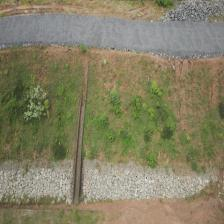rock_toe: (82, 161, 217, 203), (82, 163, 210, 202), (0, 160, 74, 205)
slope_drain: (73, 63, 88, 204)
